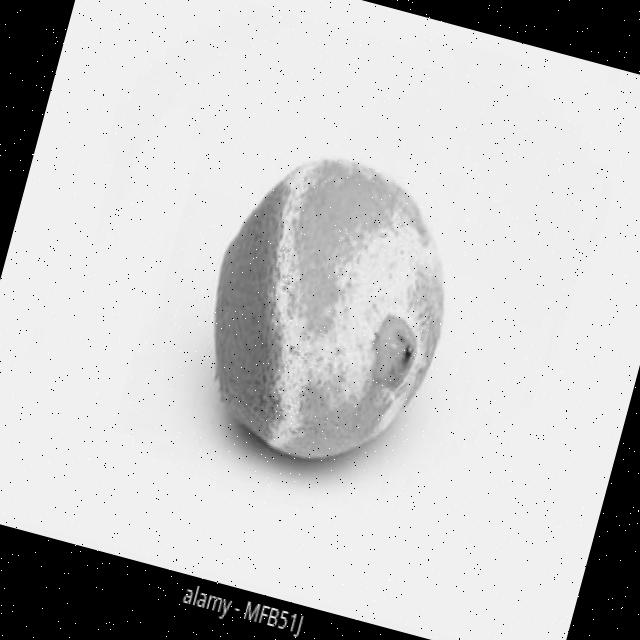Rotten: (175, 135, 474, 482)
